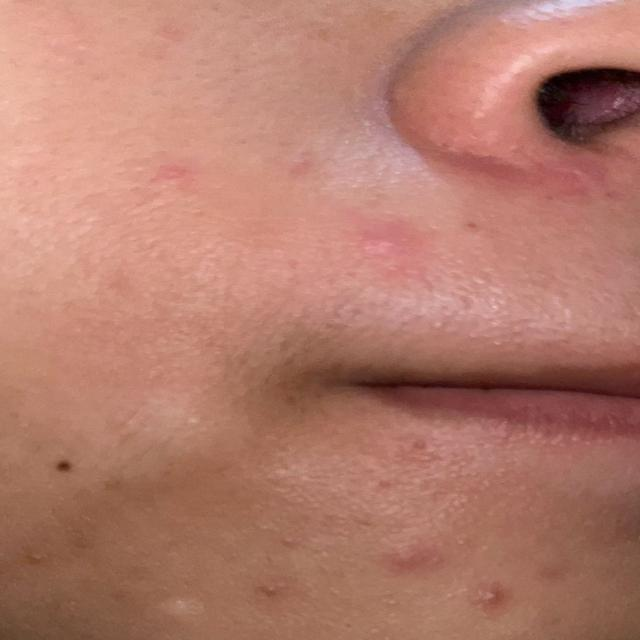papule: (349, 213, 430, 276), (371, 524, 434, 569)
pustule: (454, 575, 515, 627)
